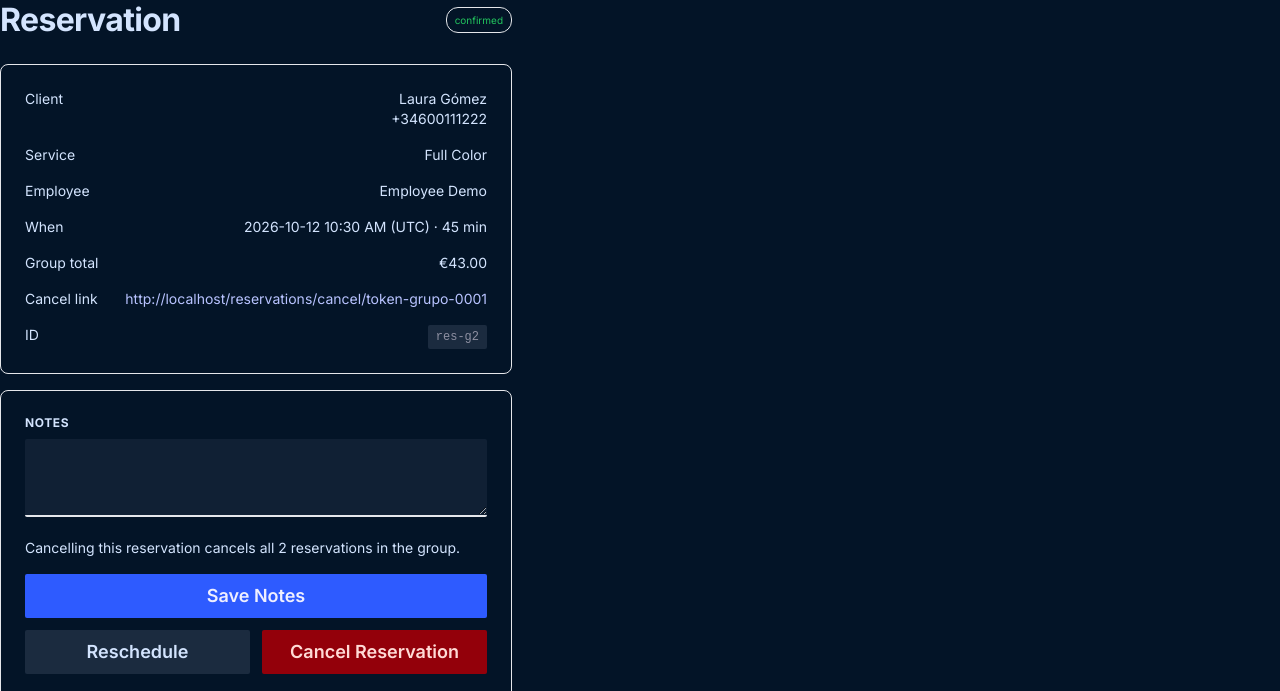
Test: ReservationDetail (reprogramación, F4.7b) › grupo: viendo la 2ª fila, el PUT se ancla en la 1ª y recarga con token nuevo
The image size is (1280, 691).
Check: the text "Laura Gómez" is shown, box [399,90,487,107]
Step 1. Click the button with test id "reschedule-open" → (138, 652), box [25,630,250,674]
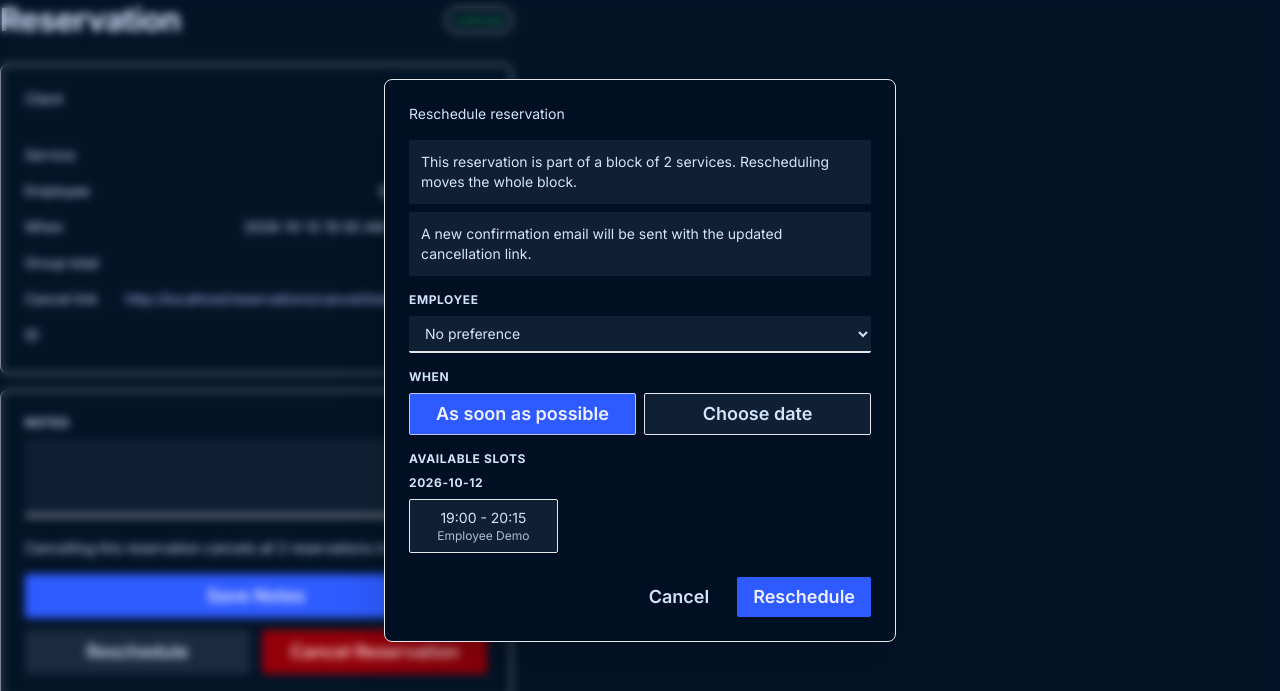
Check: the text with test id "reschedule-group-warning" shows "This reservation is part of a block of 2 services. Rescheduling moves the whole block.", box [421,152,829,190]
Step 2. Click the button "19:00 - 20:15 Employee Demo" → (483, 526), box [409,498,558,552]
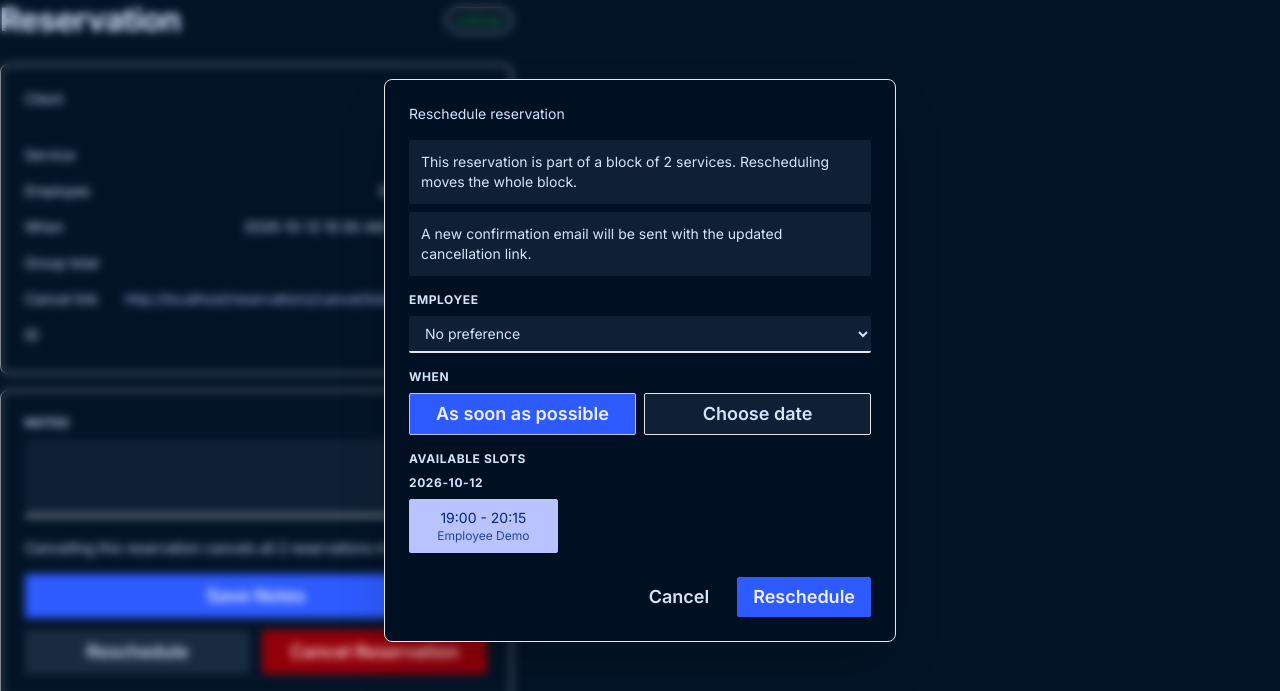
Step 3. Click the button "Reschedule" → (804, 596), box [737,576,871,616]
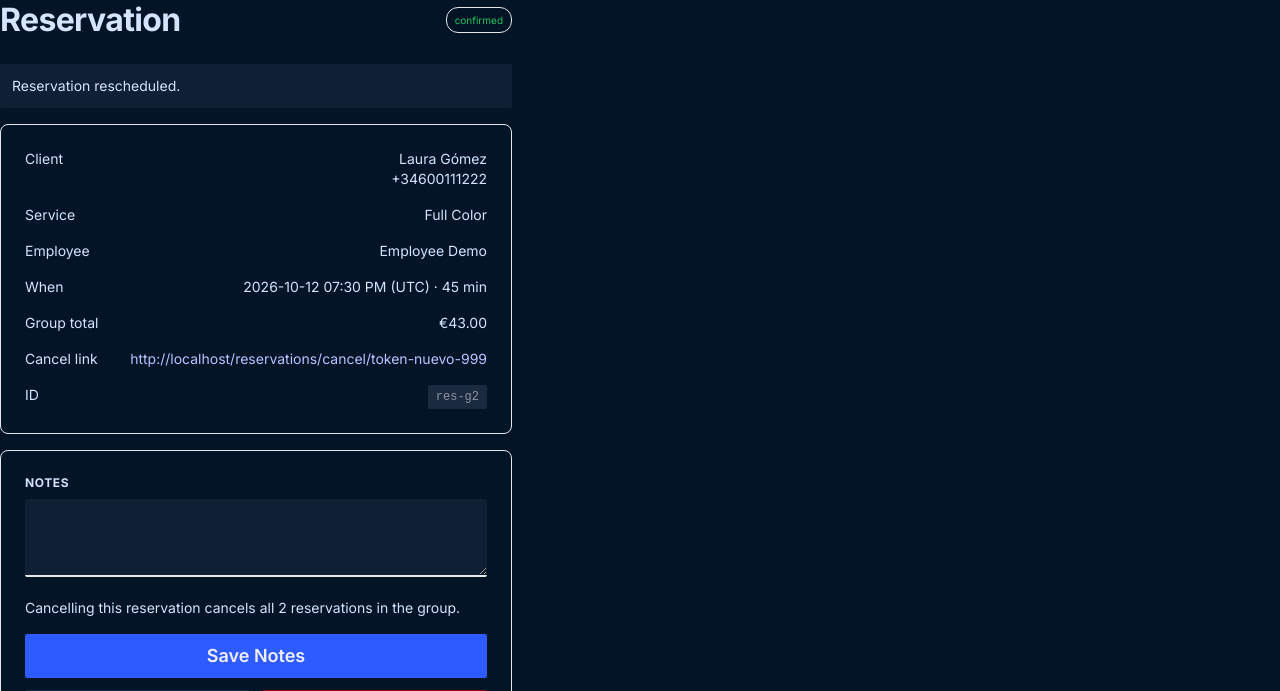
Check: the message with test id "reschedule-notice" reads "Reservation rescheduled.", box [12,77,180,94]
Check: the link "http://localhost/reservations/cancel/token-nuevo-999" is shown, box [130,349,487,369]
